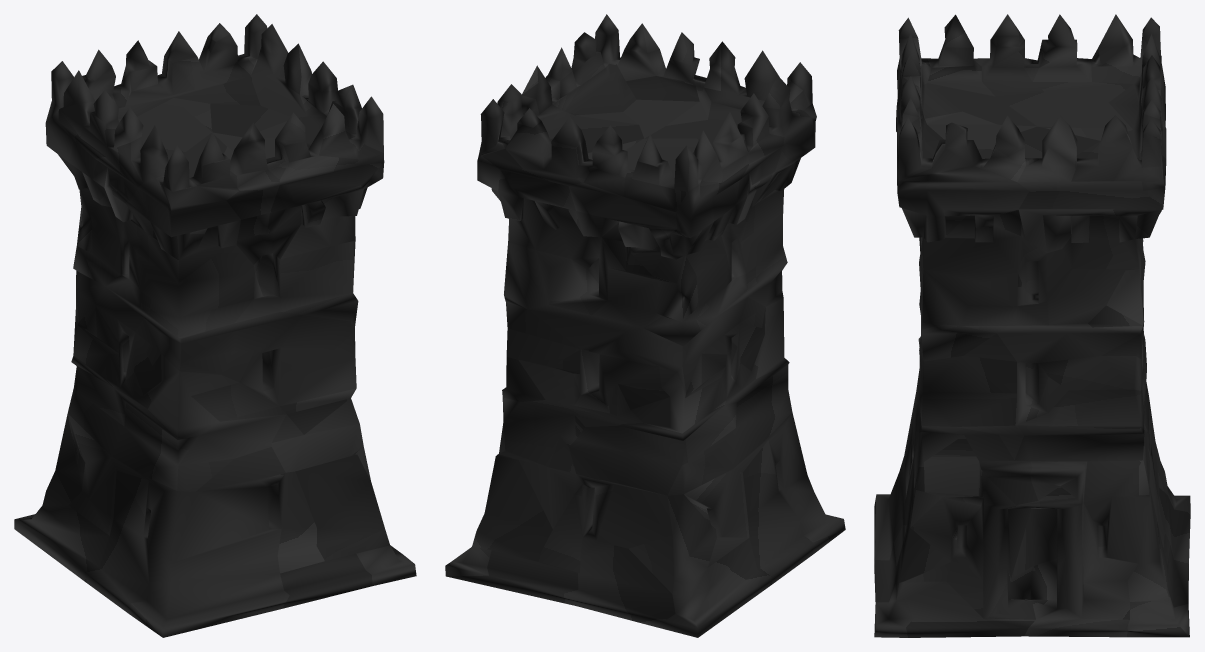
Rendered from castle_tower_medium_diamond_black_lo.glb.
The picture shows the model from 3 angles, left to right: view 1: azimuth 30°, elevation 25°; view 2: azimuth 150°, elevation 25°; view 3: azimuth 270°, elevation 25°; orthographic projection. The views are drawn at different scales.
Visible parts, largest first — view 1: tripo_node_358d9bbd-f198-4ac2-99a3-39ac19134ba0; view 2: tripo_node_358d9bbd-f198-4ac2-99a3-39ac19134ba0; view 3: tripo_node_358d9bbd-f198-4ac2-99a3-39ac19134ba0.
Boxes of the visible parts, <box> form: tripo_node_358d9bbd-f198-4ac2-99a3-39ac19134ba0: <box>14,14,416,637</box>; tripo_node_358d9bbd-f198-4ac2-99a3-39ac19134ba0: <box>445,14,845,637</box>; tripo_node_358d9bbd-f198-4ac2-99a3-39ac19134ba0: <box>874,14,1190,637</box>.
Bounding box in the file's own units: 0.5523 × 0.9811 × 0.554.
Materials: 1 (1 with a texture image).
